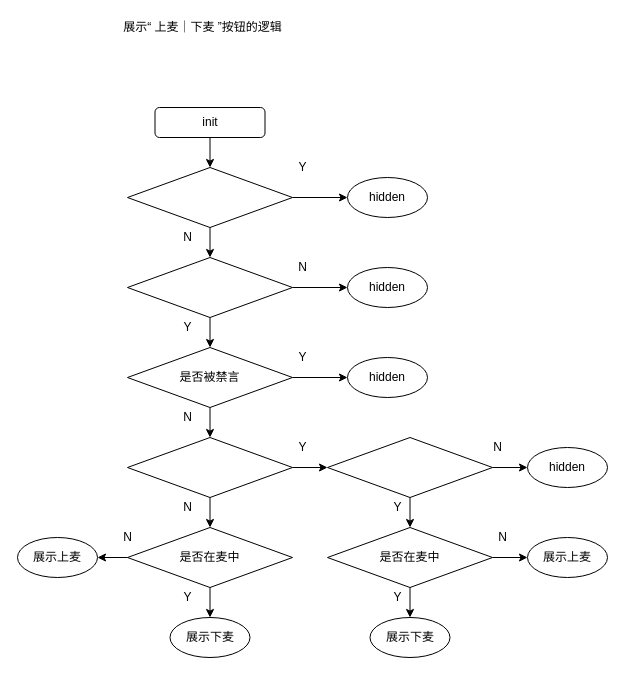
This 625x675 diagram has some shape labels left out. Here are the shapes that lost their labels. From the top down, the box of each, then its label:
(126, 166, 292, 228): 设备是否禁用
(126, 256, 292, 318): 是否是互动活动 并在开播中
(126, 436, 292, 498): 是否是分组直播
(326, 436, 492, 498): 是否非组长角色
